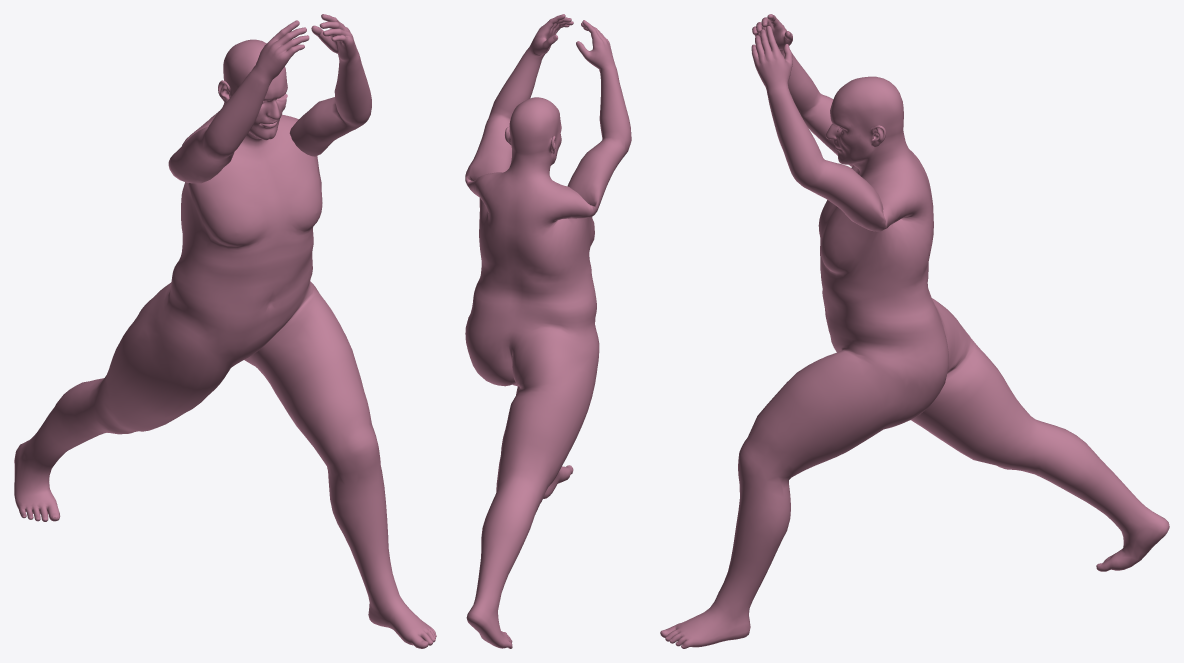
File: pos4.glb
The picture shows the model from 3 angles, left to right: view 1: azimuth 30°, elevation 25°; view 2: azimuth 150°, elevation 25°; view 3: azimuth 270°, elevation 25°; orthographic projection. The views are drawn at different scales.
Visible parts, largest first — view 1: f_mana; view 2: f_mana; view 3: f_mana.
Boxes of the visible parts, x1,y1,x2,y2 form: f_mana: (14,14,436,648); f_mana: (465,14,631,648); f_mana: (660,14,1169,648).
Bounding box in the file's own units: 58.06 × 178 × 139.
